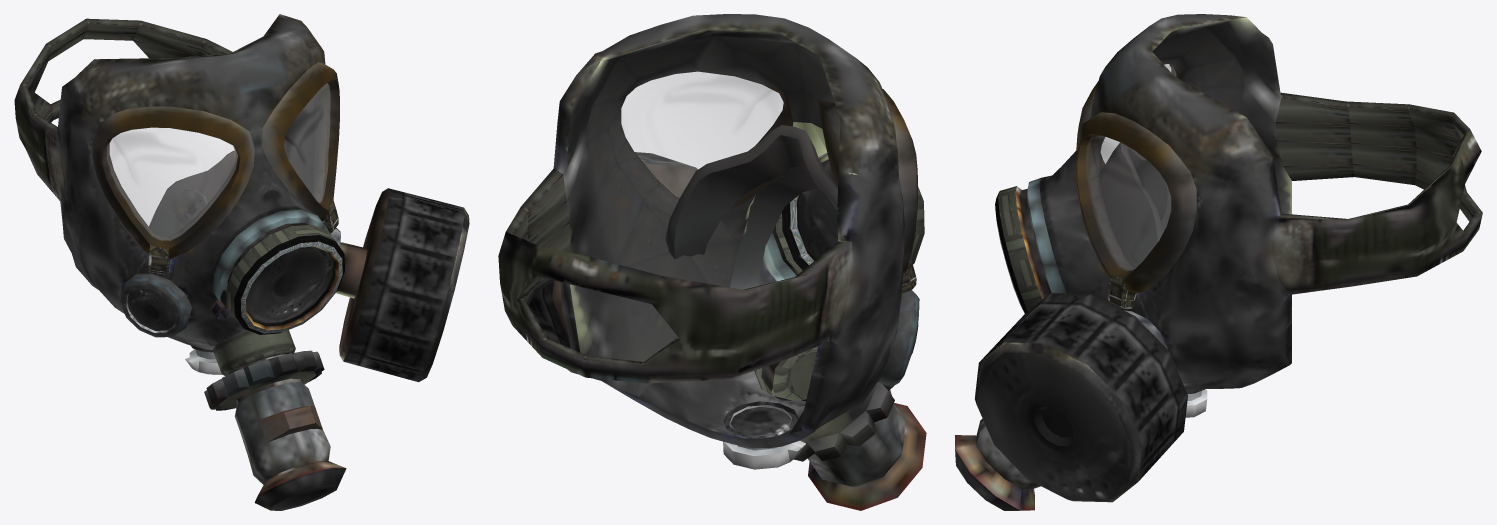
The model's file is gas-mask.fbx.
3 views of the same model, side by side, from view 1: azimuth 30°, elevation 25°; view 2: azimuth 150°, elevation 25°; view 3: azimuth 270°, elevation 25° (orthographic). The views are drawn at different scales.
Parts seen in each view (by area): view 1: gas_mask; view 2: gas_mask; view 3: gas_mask.
Boxes of the visible parts, <box> form: gas_mask: <box>14,14,469,510</box>; gas_mask: <box>498,14,926,510</box>; gas_mask: <box>955,14,1482,510</box>.
Size of the model in its own units: 24.47 by 28.16 by 29.31.
2 materials, 2 textured.
